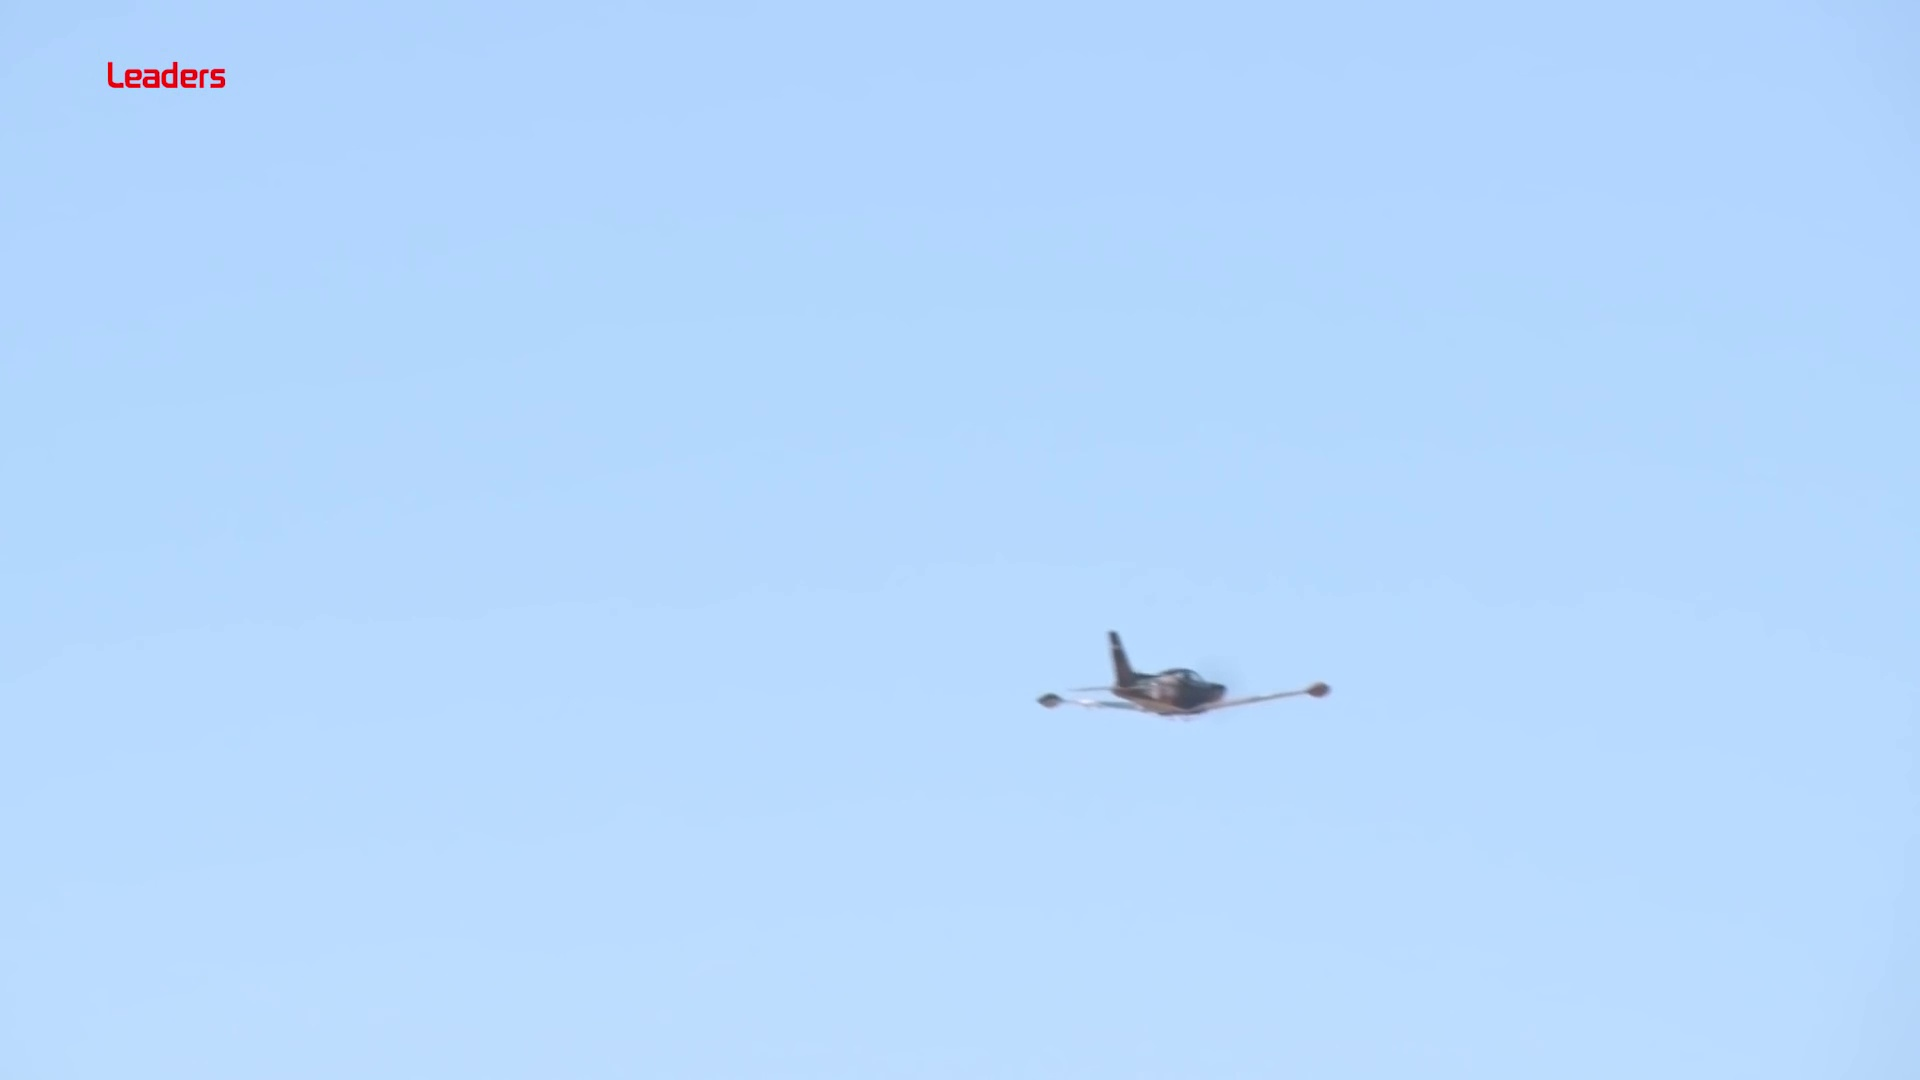Airplane: (1034, 622, 1335, 720)
